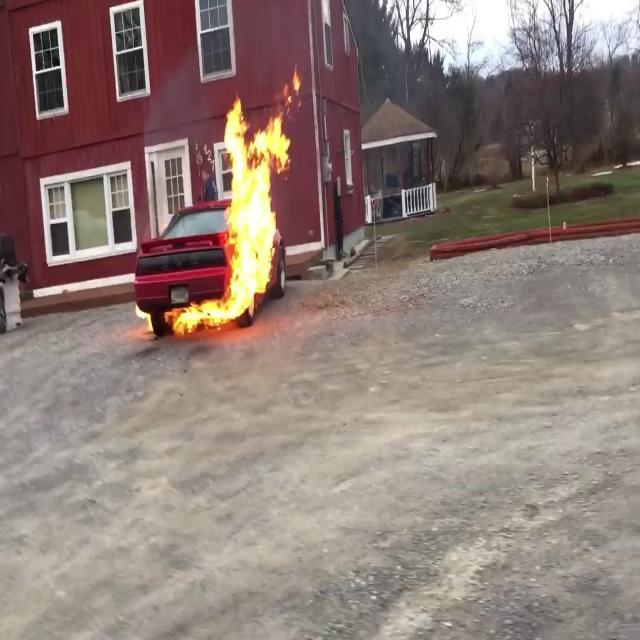Fire: (163, 62, 302, 339)
